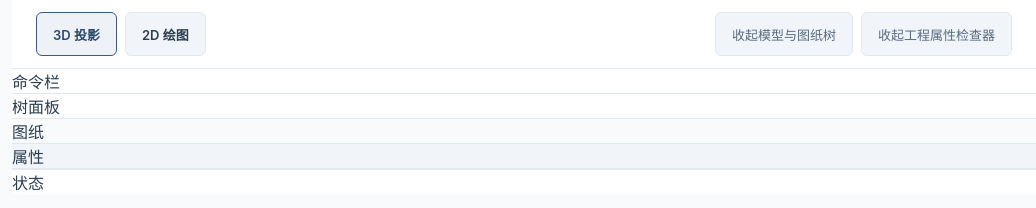
Test: engineering workbench shell › lets narrow layouts collapse and reopen both docks
Click the button "收起模型与图纸树". click: (784, 34)
box: [715,12,853,56]
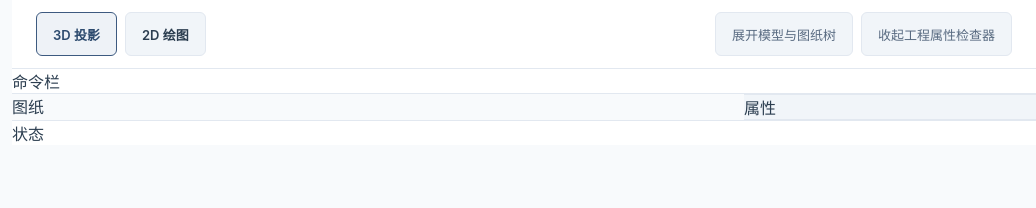
Check: the button "展开模型与图纸树" is shown, box [715,12,853,56]
Check: the text with test id "left-slot" is gone
Click the button "收起工程属性检查器". click: (936, 34)
box: [861,12,1012,56]
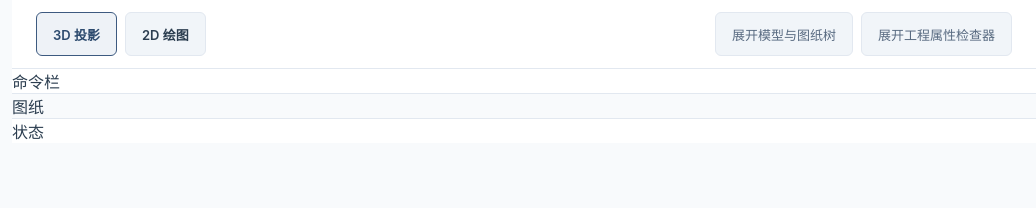
Check: the text "图纸" is shown, box [12,97,44,117]
Check: the text with test id "inspector-slot" is gone
